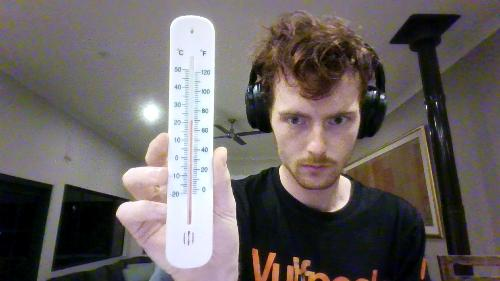thermo: (165, 19, 216, 267)
